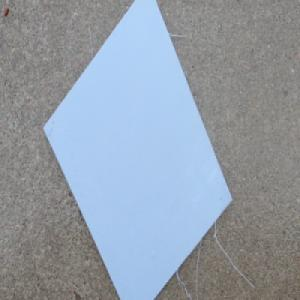PaintChip: (43, 0, 232, 300)
